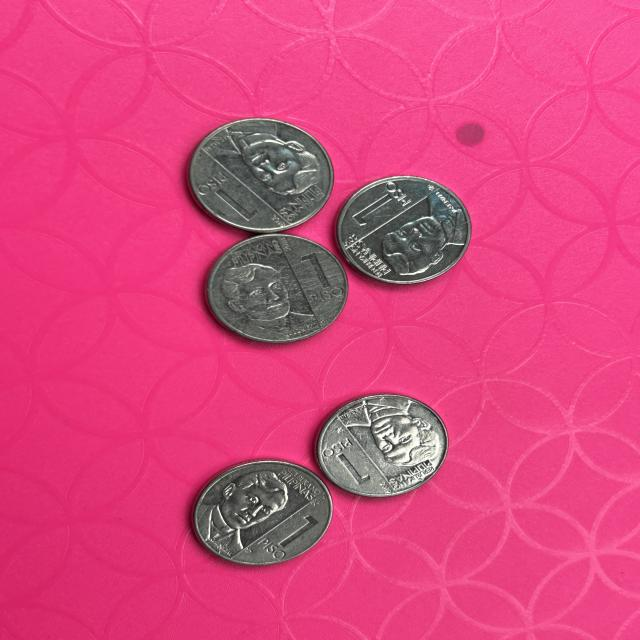1_New_Front: (193, 172, 263, 222), (350, 181, 416, 225), (254, 511, 317, 556), (320, 438, 374, 489), (296, 251, 336, 311)
